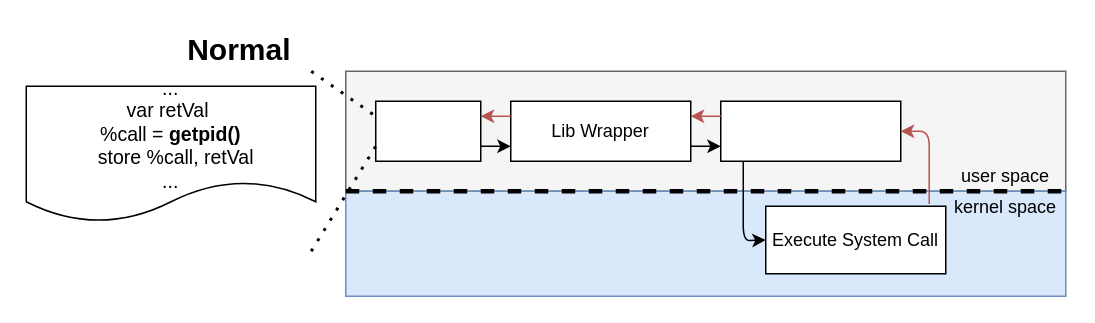
This 1095x323 diagram has some shape labels left out. The centre of each missing label's shape, as x and y in pixels:
"Application" goes at (427,130).
"syscall()" goes at (810,130).
